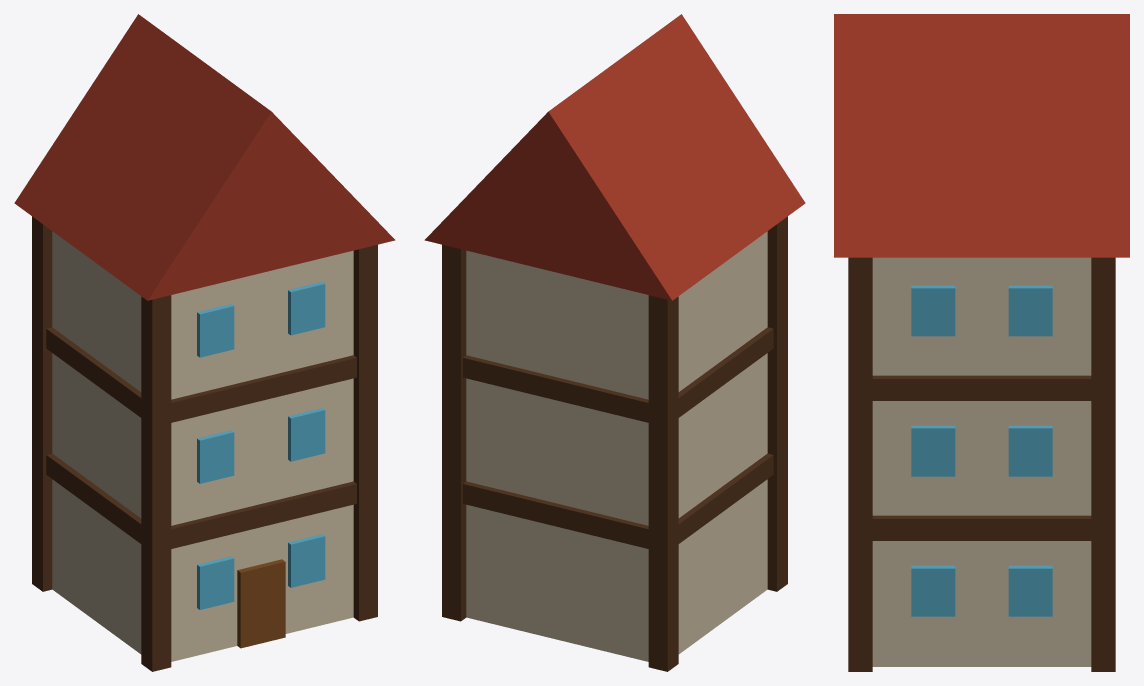
File: city_house_a.glb
3 views of the same model, side by side, from view 1: azimuth 30°, elevation 25°; view 2: azimuth 150°, elevation 25°; view 3: azimuth 270°, elevation 25° (orthographic). The views are drawn at different scales.
Parts seen in each view (by area): view 1: beams; view 2: beams; view 3: beams.
Boxes of the visible parts, left/top/right/bottom form: beams: left=14, top=14, right=395, bottom=671; beams: left=424, top=14, right=805, bottom=671; beams: left=834, top=14, right=1129, bottom=671.
Bounding box in the file's own units: 1.44 × 2.98 × 1.34.
